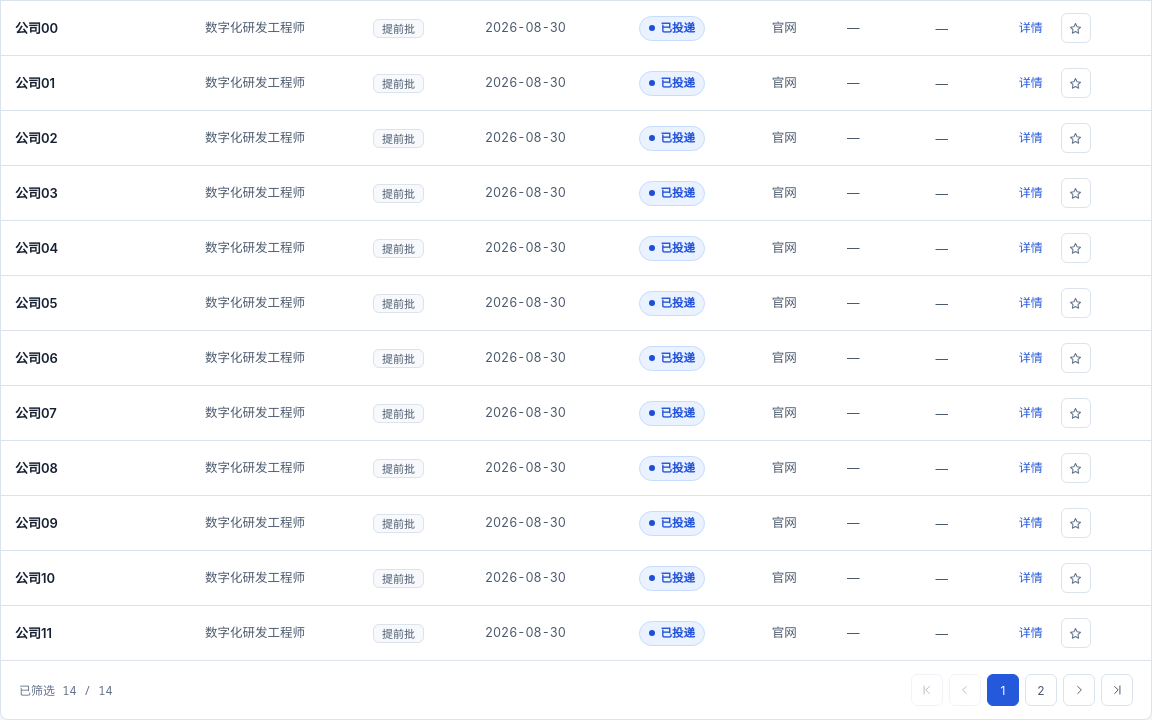
Test: ApplicationTable › 每页 12 条，翻页显示其余记录
(page scrolled)
Check: the element showing "1 2" is shown, box x1=911 y1=674 x2=1133 y2=706
What coordinates should you click on to do the following:
click the button "2"
I would click on:
 (1041, 690)
Its box is x1=1025 y1=674 x2=1057 y2=706.
(page scrolled)
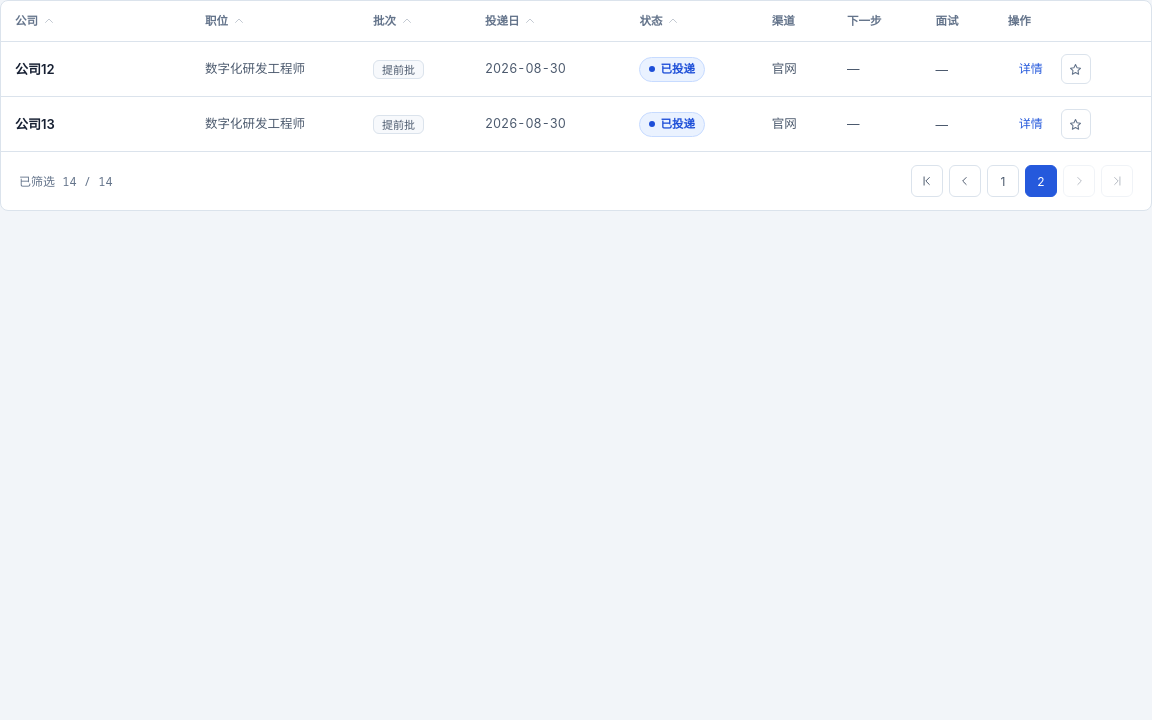
Check: the button "2" is shown, box x1=1025 y1=165 x2=1057 y2=197
Check: the number of rows with class "app-row" is 2, box x1=1 y1=42 x2=1151 y2=97; x1=1 y1=97 x2=1151 y2=151
